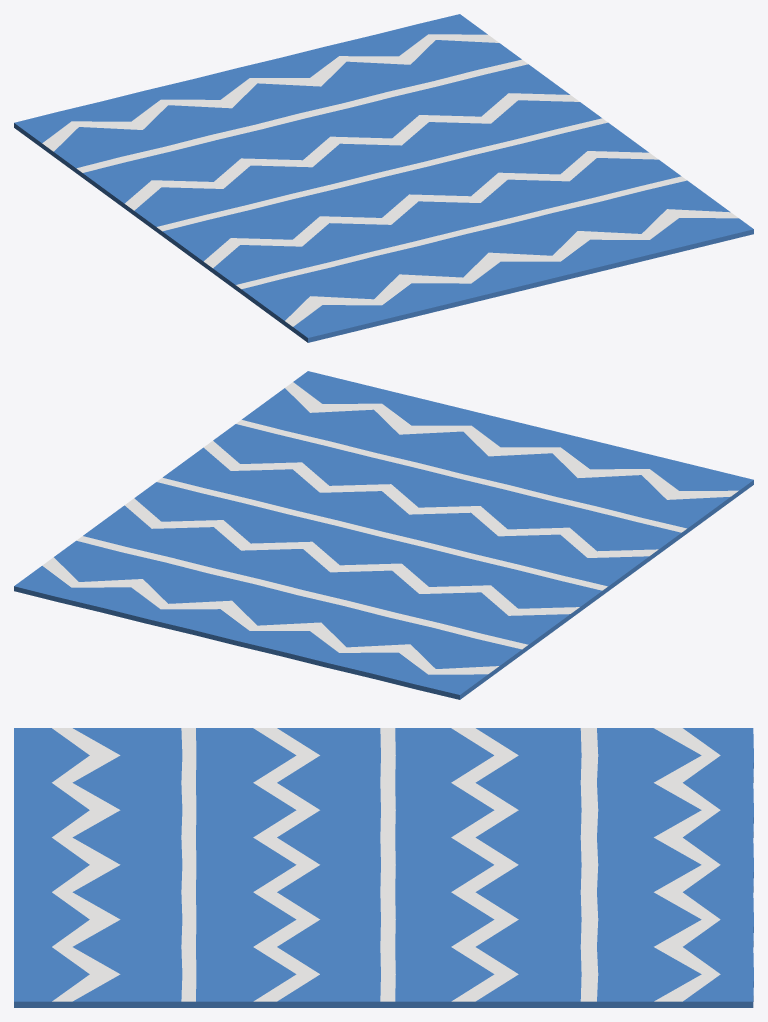
The model's file is Carpet_16.glb.
3 renders of one model, top to bottom at view 1: azimuth 30°, elevation 25°; view 2: azimuth 150°, elevation 25°; view 3: azimuth 270°, elevation 25°, orthographic. The views are drawn at different scales.
Parts seen in each view (by area): view 1: Carpet_16; view 2: Carpet_16; view 3: Carpet_16.
Boxes of the visible parts, x1,y1,x2,y2 form: Carpet_16: (14, 14, 753, 342); Carpet_16: (14, 371, 753, 699); Carpet_16: (14, 728, 753, 1007).
Size of the model in its own units: 2.81 by 0.0298 by 3.21.
1 material, 1 textured.
